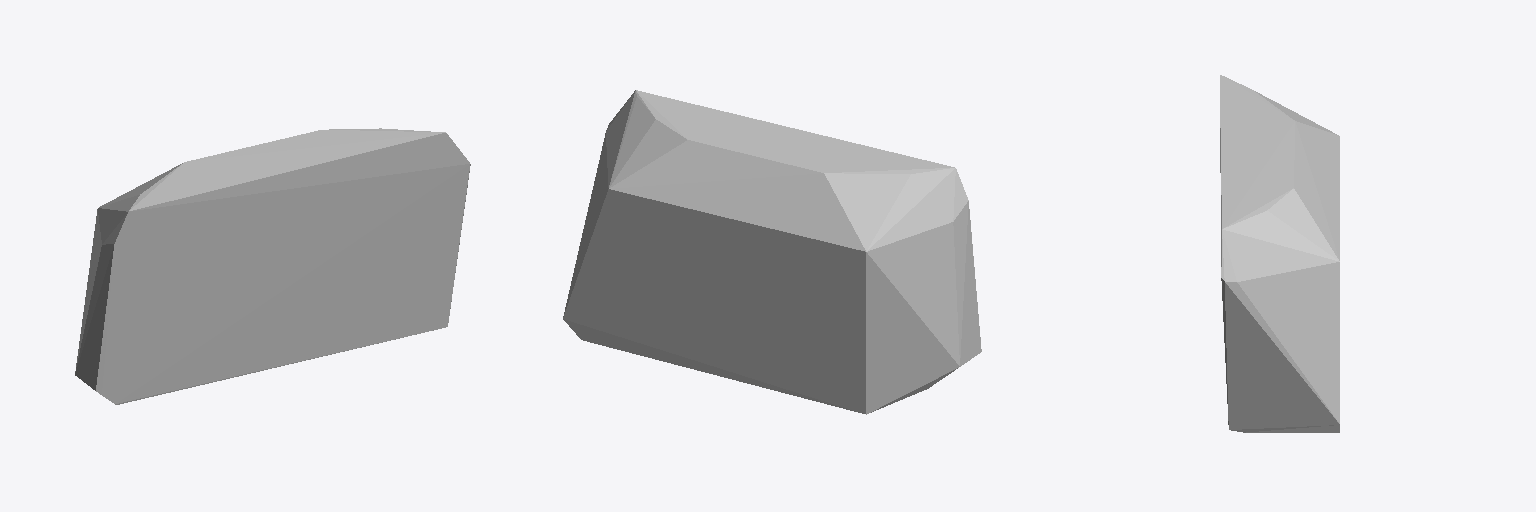
The model's file is solo_lower_leg_v2_right_side_collision_2.obj.
The picture shows the model from 3 angles: view 1: azimuth 30°, elevation 25°; view 2: azimuth 150°, elevation 25°; view 3: azimuth 270°, elevation 25°; orthographic projection.
Size of the model in its own units: 0.024 by 0.0129 by 0.0067.